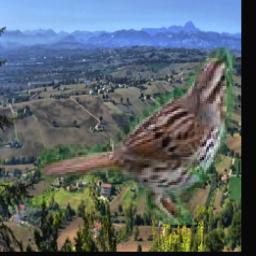Sparrow: (39, 46, 236, 225)
